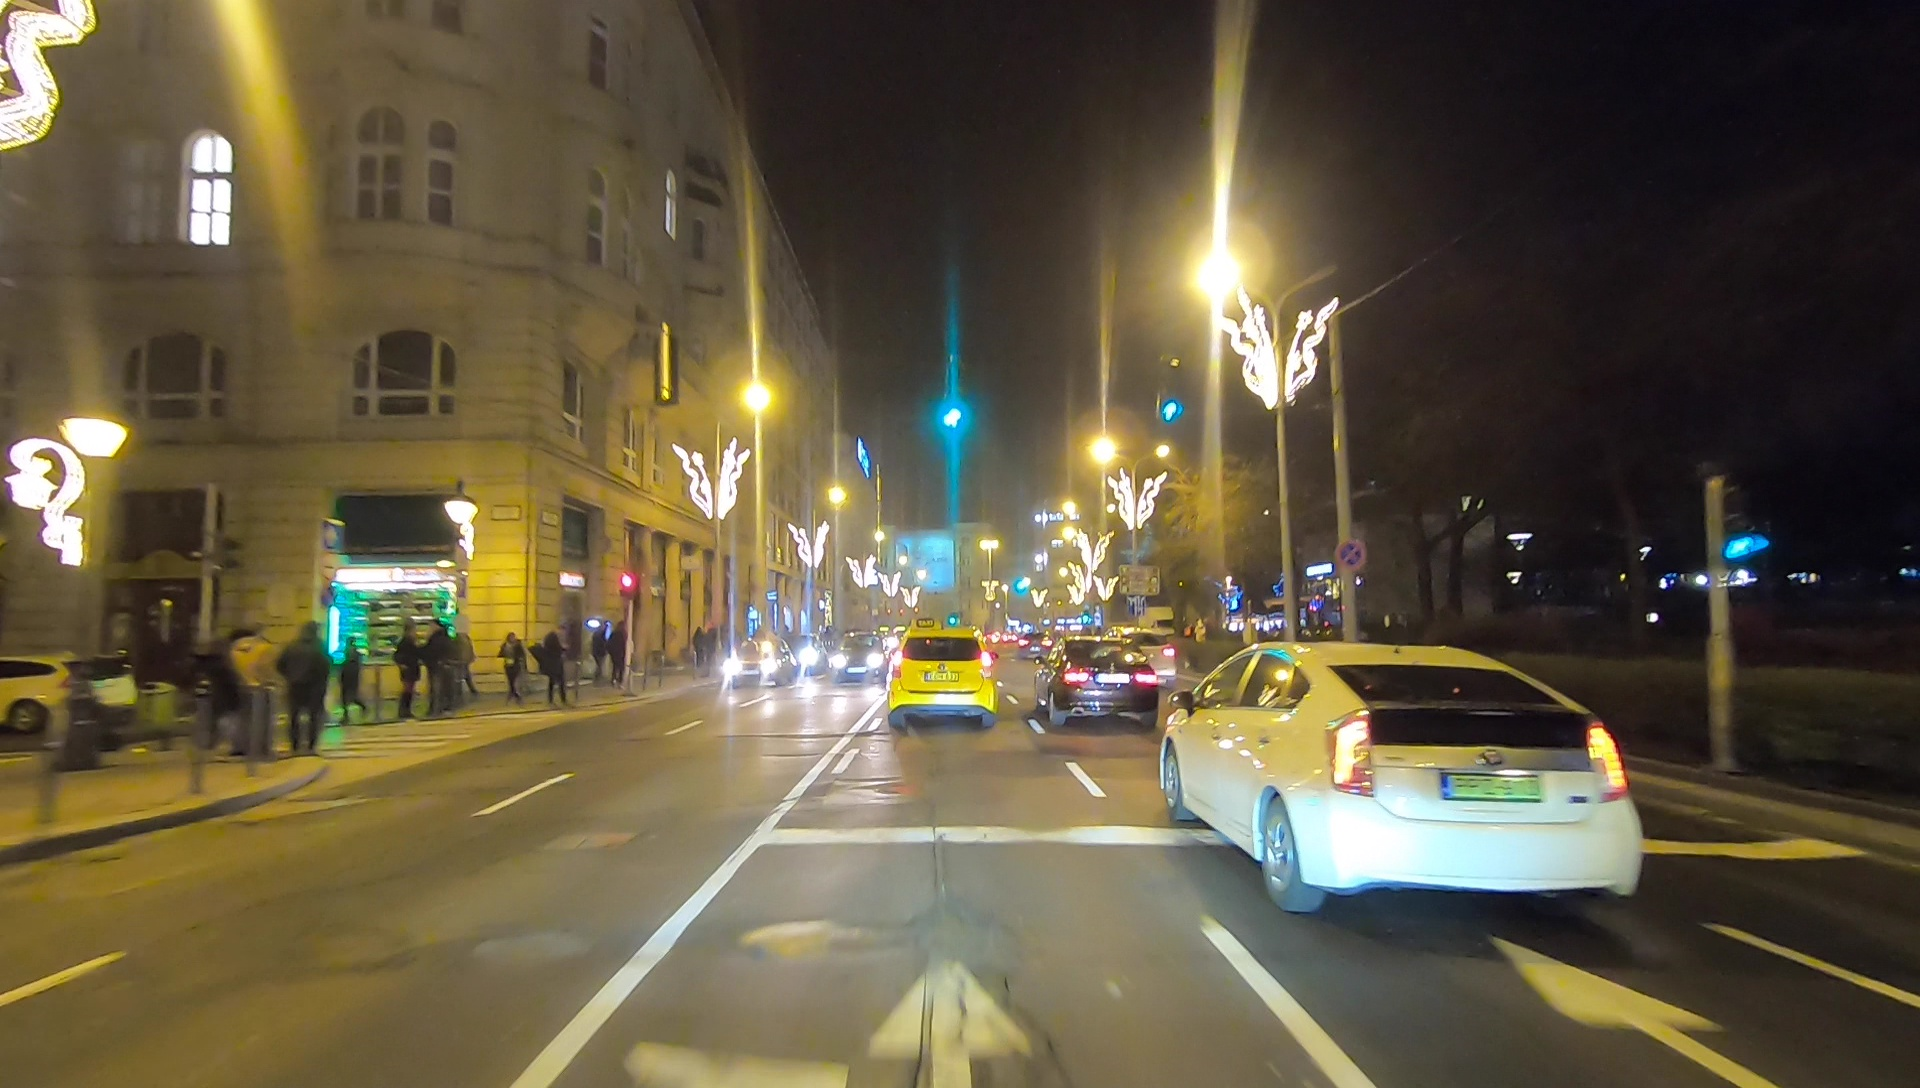person: (228, 632, 275, 758), (284, 623, 326, 750), (199, 637, 230, 767), (419, 623, 449, 715), (534, 632, 569, 704), (391, 630, 417, 724), (339, 637, 365, 715), (502, 630, 523, 706), (610, 617, 628, 697), (588, 621, 606, 687)
